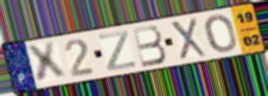2: (64, 38, 95, 78)
B: (131, 24, 169, 69)
O: (203, 14, 238, 55)
X: (24, 40, 69, 86), (168, 17, 209, 62)
Z: (98, 28, 138, 73)
